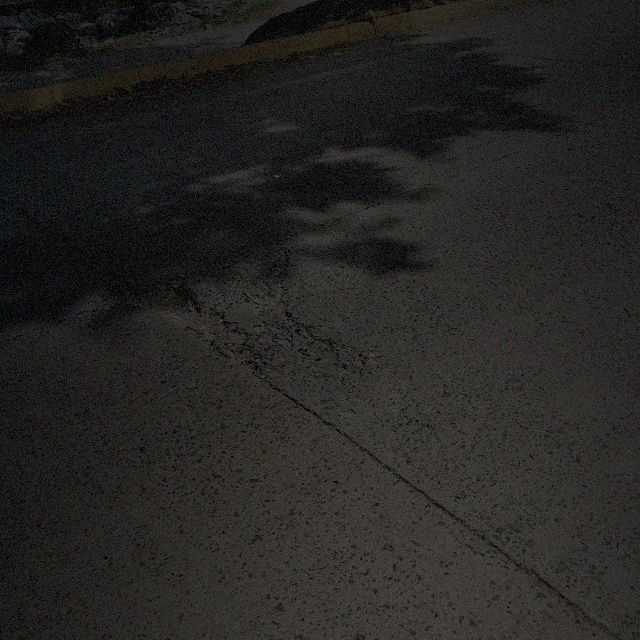pothole: (144, 280, 246, 360)
